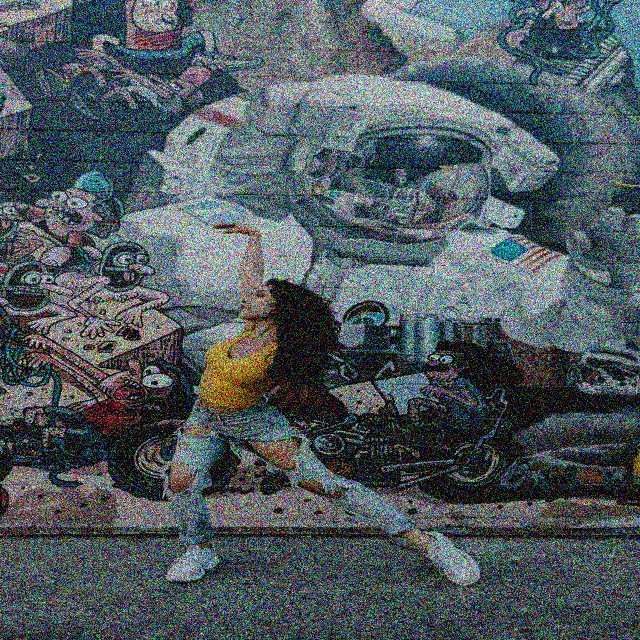Crop_Top: (197, 331, 275, 415)
ripped_pants: (166, 397, 415, 551)
